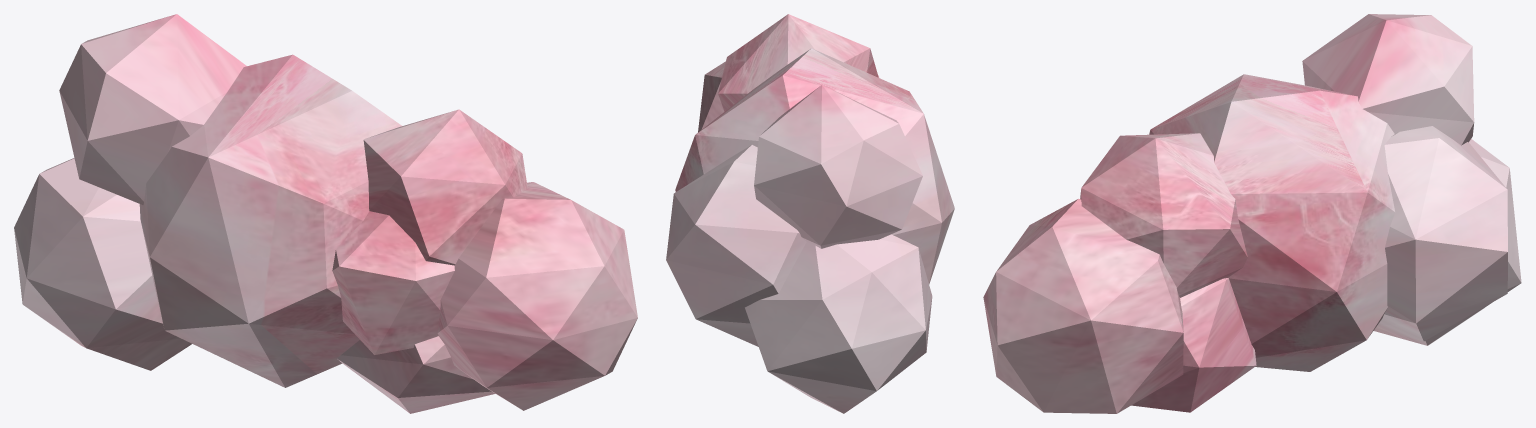
Rendered from Cloud3.fbx.
3 views of the same model, side by side, from view 1: azimuth 30°, elevation 25°; view 2: azimuth 150°, elevation 25°; view 3: azimuth 270°, elevation 25° (orthographic). The views are drawn at different scales.
Parts seen in each view (by area): view 1: Cloud_2.001; view 2: Cloud_2.001; view 3: Cloud_2.001.
Part boxes in pixels (x1,y1,x2,y2): Cloud_2.001: (14,14,637,413); Cloud_2.001: (666,14,954,413); Cloud_2.001: (983,14,1521,413).
Size of the model in its own units: 17.95 by 13.92 by 20.58.
Materials: 1 (1 with a texture image).
